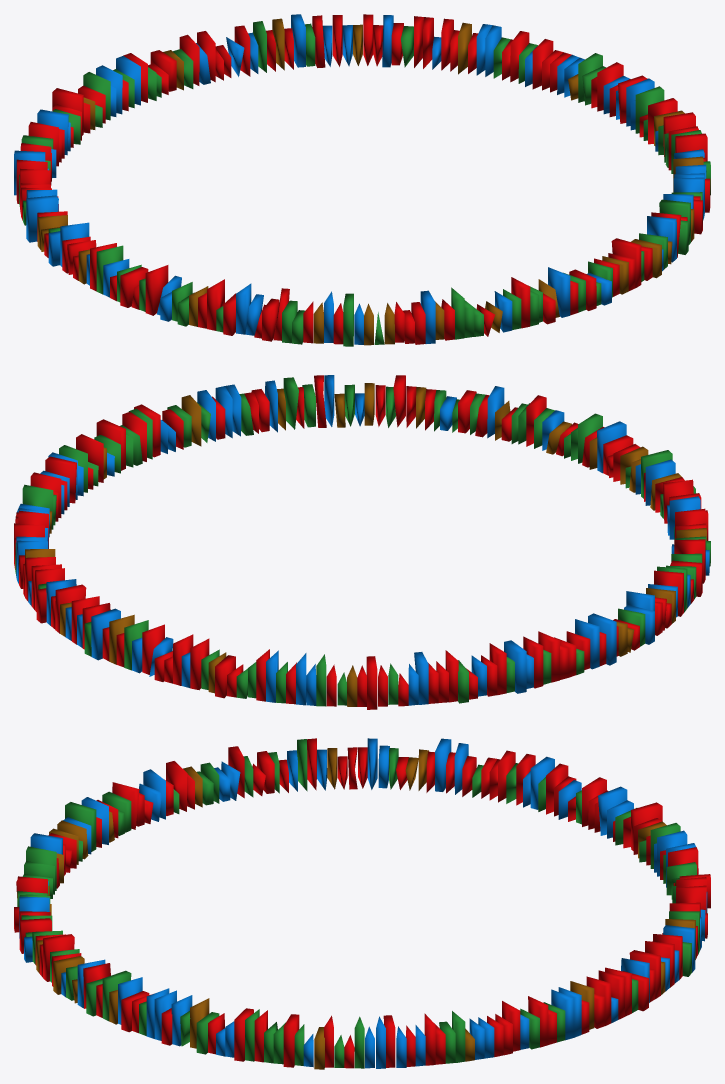
Rendered from RoundBooks_LOD1.fbx.
The picture shows the model from 3 angles, top to bottom: view 1: azimuth 30°, elevation 25°; view 2: azimuth 150°, elevation 25°; view 3: azimuth 270°, elevation 25°; orthographic projection.
Visible parts, largest first — view 1: Books.003; view 2: Books.003; view 3: Books.003.
Part boxes in pixels (x1,y1,x2,y2): Books.003: (14,14,710,346); Books.003: (14,375,710,709); Books.003: (14,738,710,1069).
Bounding box in the file's own units: 553 × 35.66 × 553.
